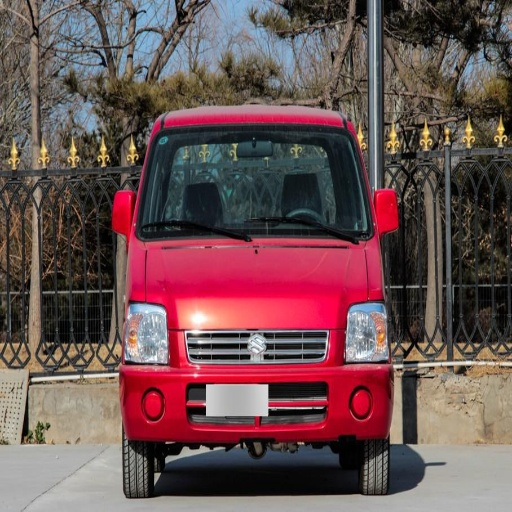front_bumper: (126, 330, 392, 442)
front_right_light: (122, 303, 167, 365)
hood: (131, 238, 369, 330)
